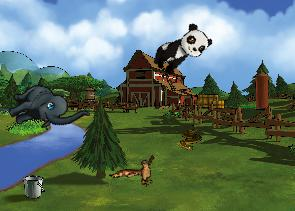eagle: (108, 143, 167, 201)
elephant: (2, 67, 90, 150)
panda: (148, 19, 214, 81)
